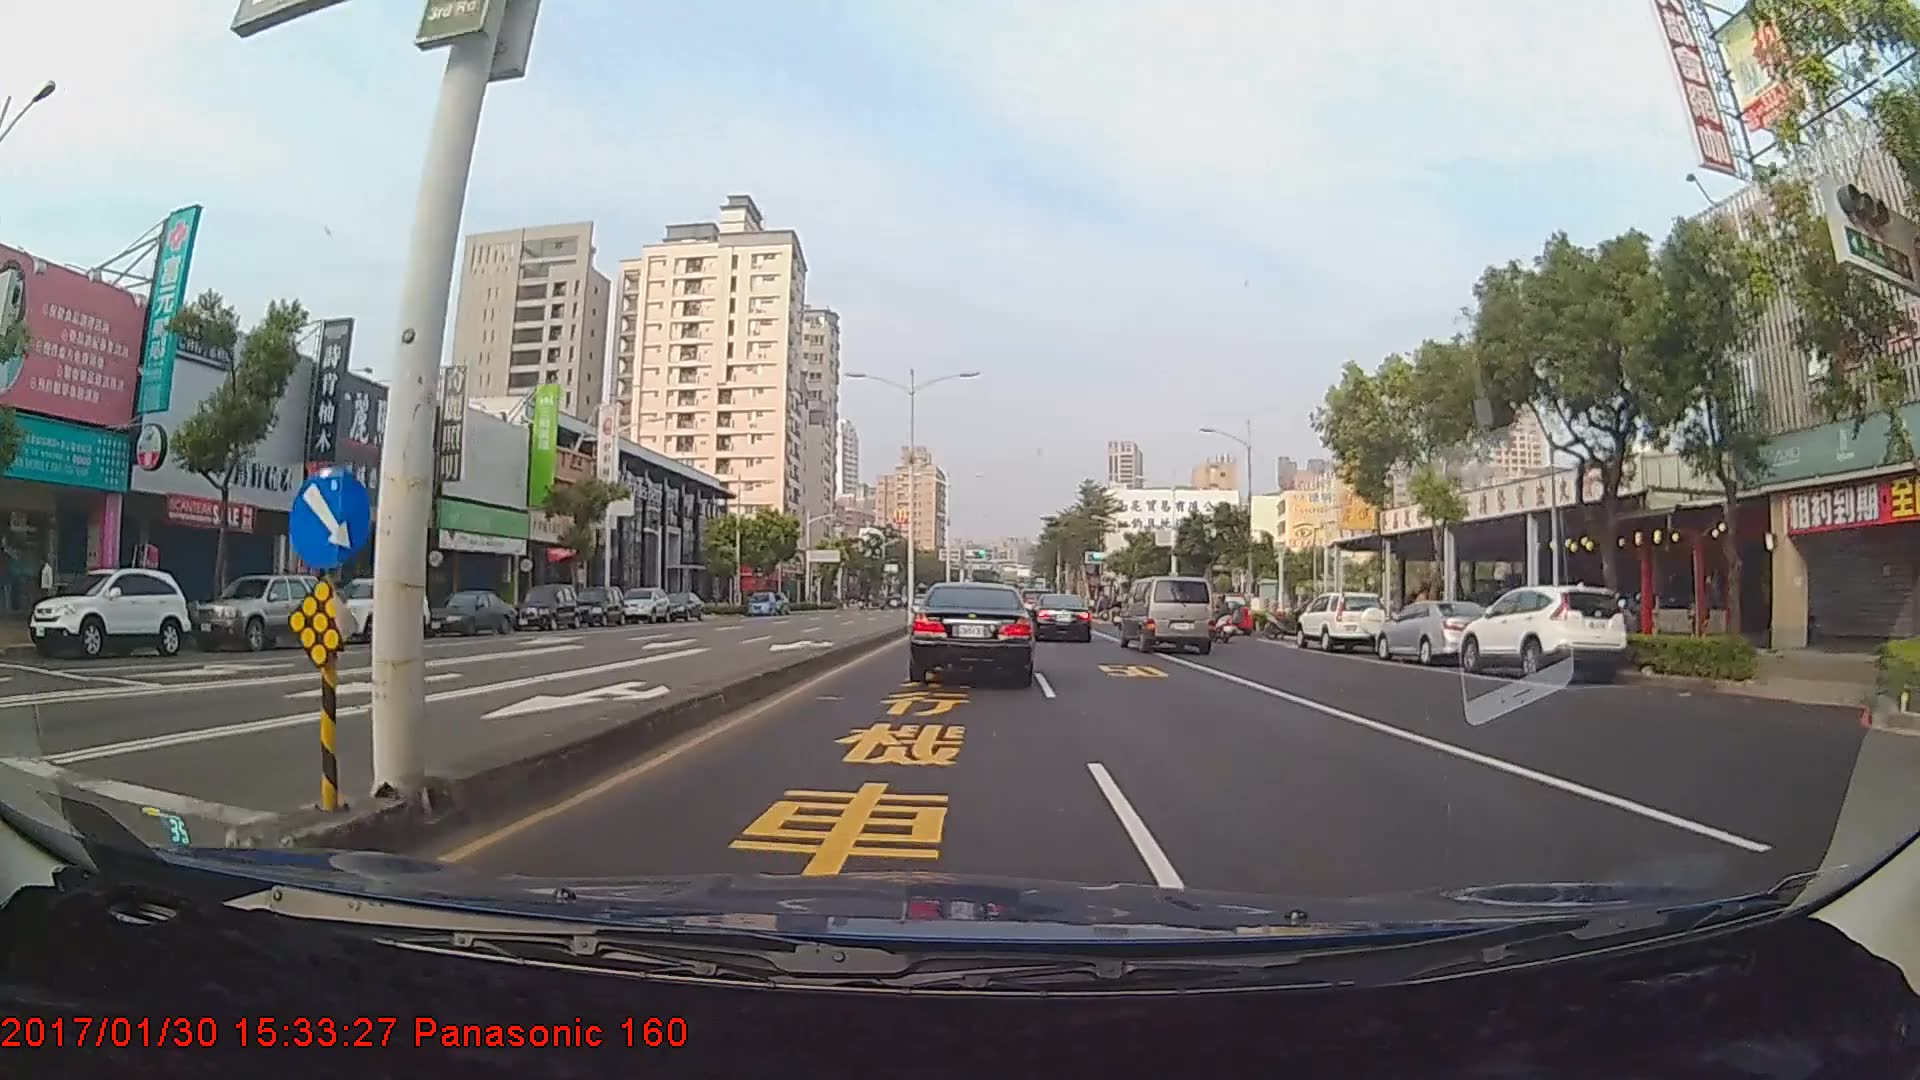pedestrian: (37, 554, 59, 626)
rider: (1211, 591, 1240, 642)
vehicle: (1458, 581, 1630, 682), (27, 568, 190, 656), (909, 580, 1034, 685), (192, 572, 327, 651), (1375, 596, 1491, 667), (1119, 576, 1211, 654), (326, 576, 430, 643), (1297, 592, 1387, 652), (423, 589, 516, 636), (1024, 593, 1092, 644), (514, 583, 582, 631), (619, 584, 672, 623), (574, 587, 625, 627), (657, 587, 704, 618), (745, 585, 775, 611)
